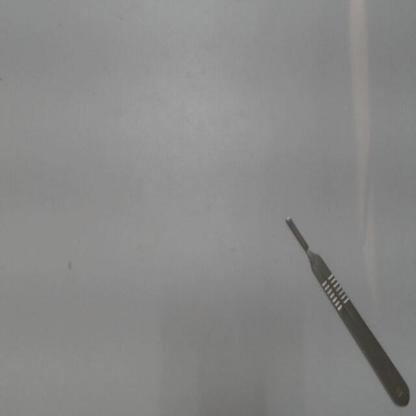No.4 BP Handle: (282, 211, 414, 410)
